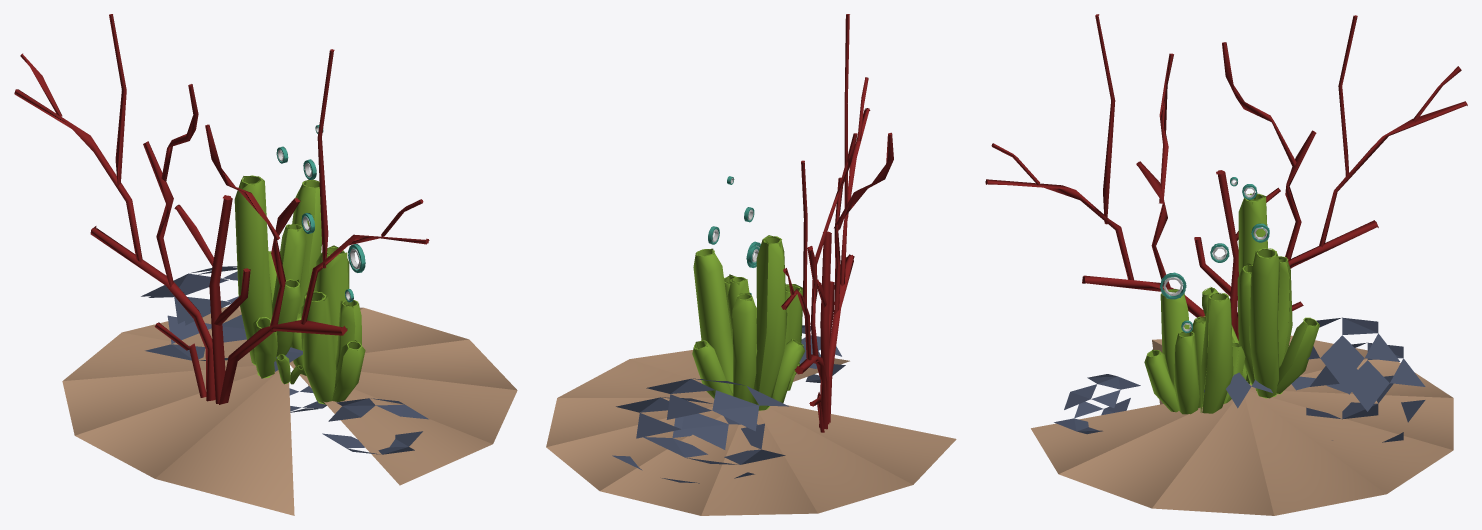
The model's file is coral_a.fbx.
3 views of the same model, side by side, from view 1: azimuth 30°, elevation 25°; view 2: azimuth 150°, elevation 25°; view 3: azimuth 270°, elevation 25° (orthographic). The views are drawn at different scales.
Visible parts, largest first — view 1: Tube001; view 2: Tube001; view 3: Tube001.
Part boxes in pixels (box(x1,y1,x2,y2)): Tube001: box(14, 14, 517, 515); Tube001: box(546, 14, 956, 515); Tube001: box(985, 14, 1467, 515).
Bounding box in the file's own units: 0.8362 × 1 × 0.928.
